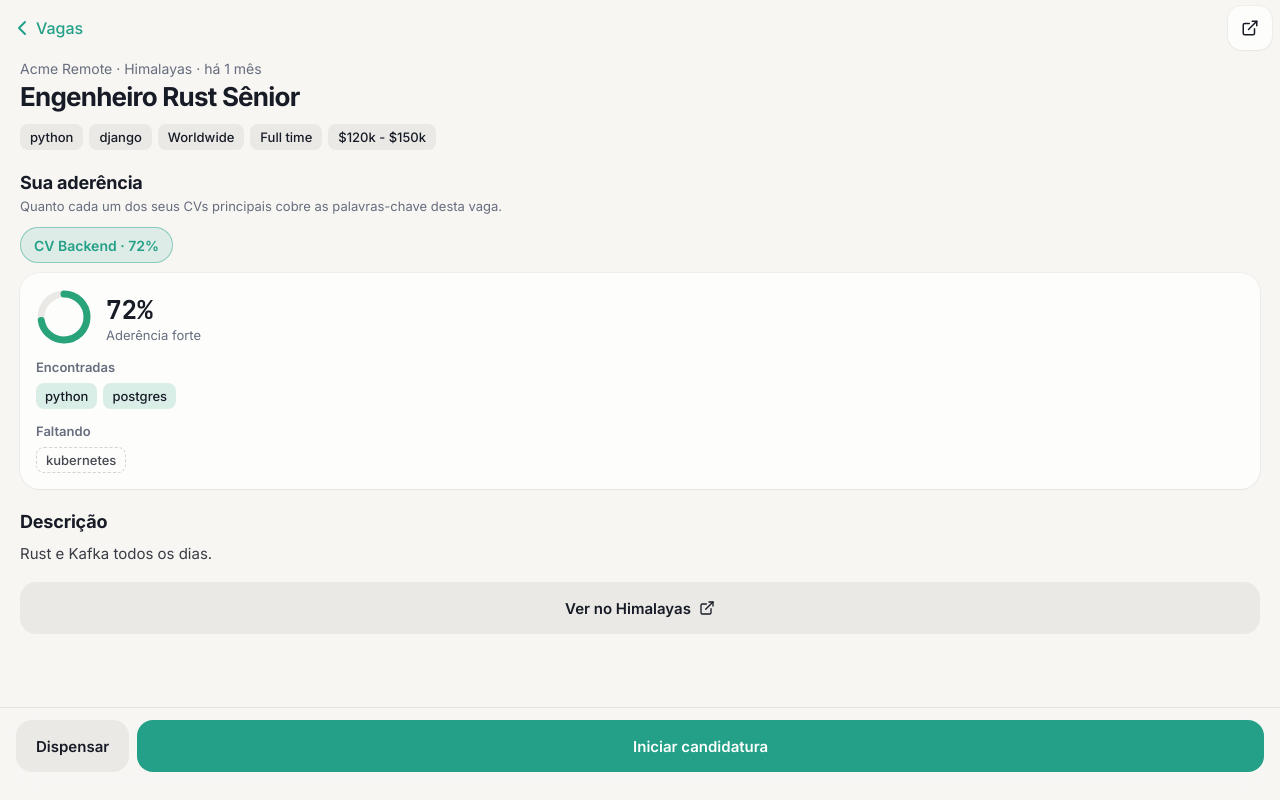
the job, CV and draft boards in Portuguese below md › a job and its Start application sheet
Expected: the heading "Engenheiro Rust Sênior" is shown, top-left (20, 81), bottom-right (300, 112)
Expected: the link "Vagas" is shown, top-left (10, 16), bottom-right (83, 40)
Click the button "Iniciar candidatura".
click(701, 746)  # box top-left (137, 720), bottom-right (1264, 772)
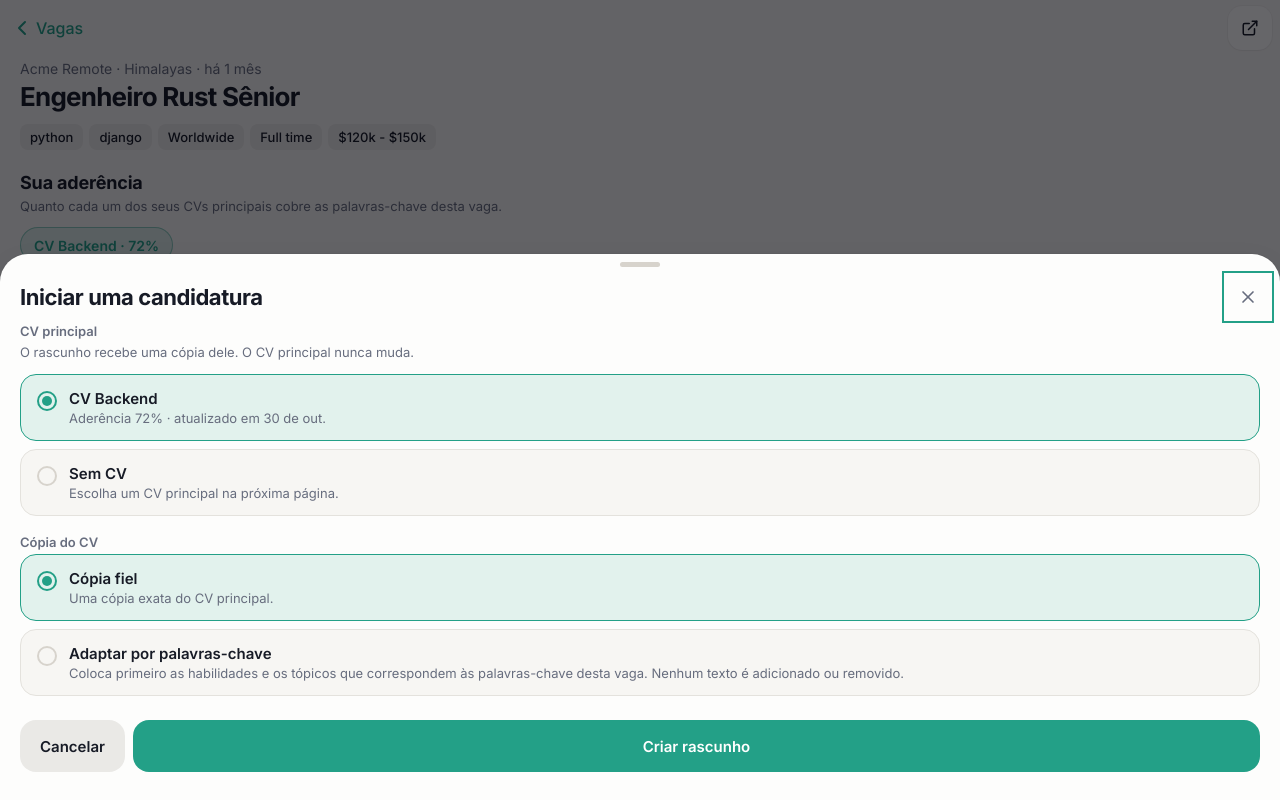
Expected: the element named "CV principal" is shown, top-left (20, 374), bottom-right (1260, 516)
Expected: the radio button labelled "Sem CV" is shown, top-left (20, 449), bottom-right (1260, 516)
Expected: the radio button labelled "Cópia fiel" is checked, top-left (20, 554), bottom-right (1260, 621)
